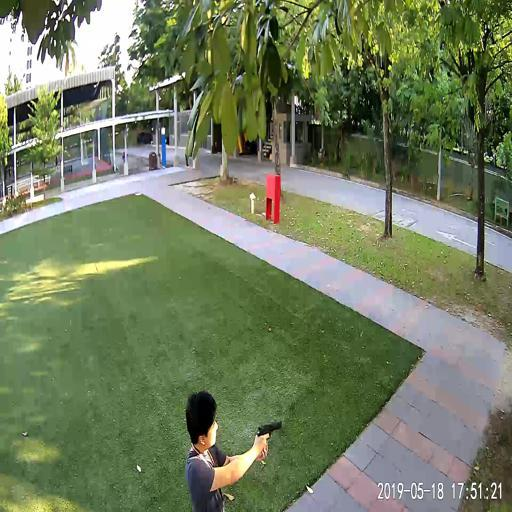Handgun: (255, 419, 281, 438)
